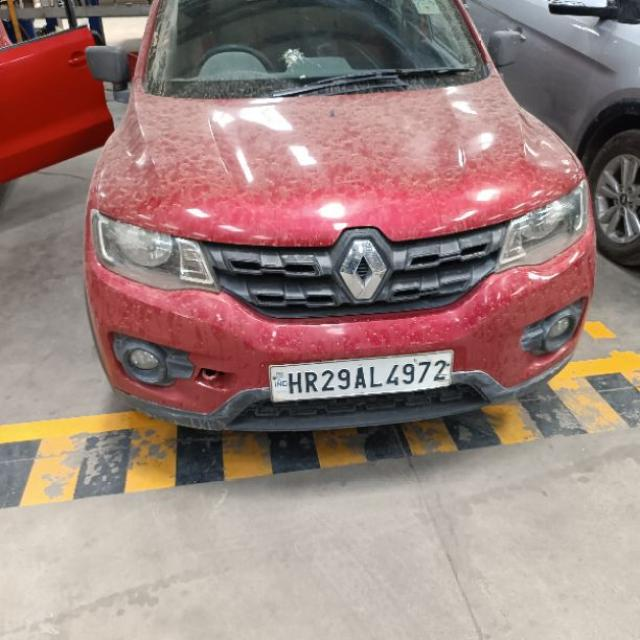license_plate: (267, 348, 454, 404)
